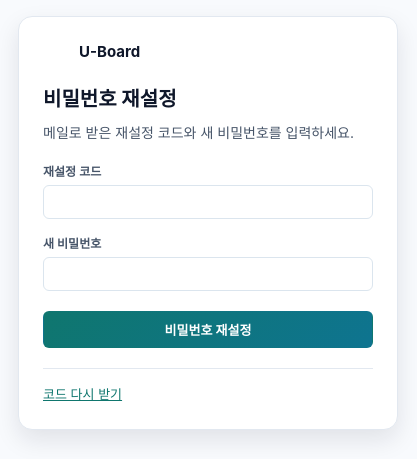
Test: ResetPasswordPage › submits the code and new password, then shows a success state
In the field labelled "재설정 코드": coordinates (208, 202) x1=43 y1=185 x2=373 y2=219, type "tok123"
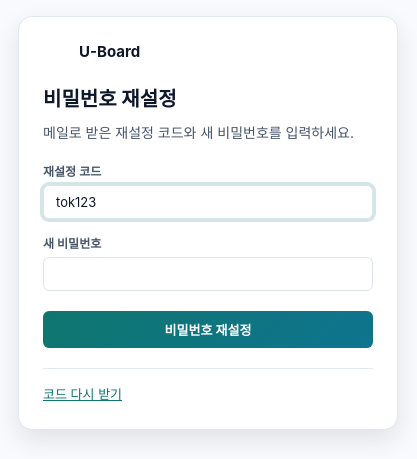
In the password field labelled "새 비밀번호": coordinates (208, 274) x1=43 y1=257 x2=373 y2=291, type "n3wpassword"
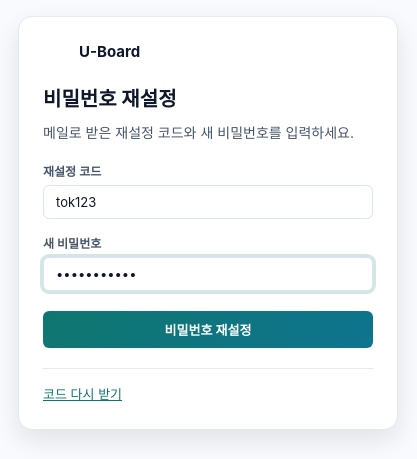
Click the button "비밀번호 재설정": coordinates (208, 330) x1=43 y1=311 x2=373 y2=348
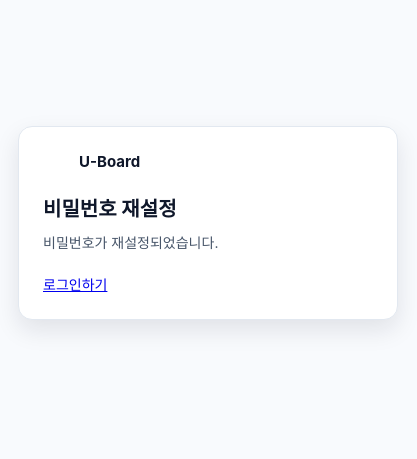
Expected: the text "비밀번호가 재설정되었습니다." is shown, x1=43 y1=234 x2=218 y2=251
